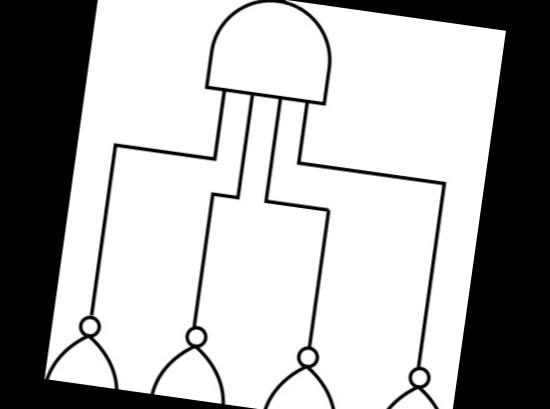nand: (195, 0, 345, 116)
nor: (145, 312, 240, 404), (44, 302, 134, 389), (257, 334, 353, 409), (369, 355, 458, 409)
